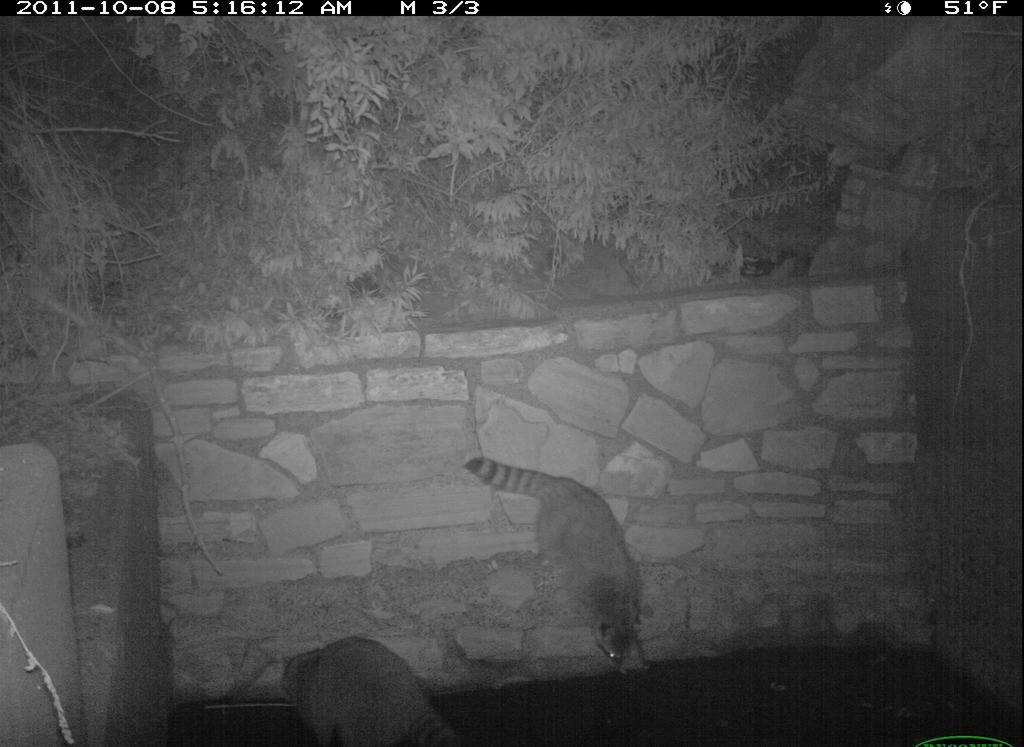raccoon: (464, 450, 655, 678), (268, 632, 477, 747)
